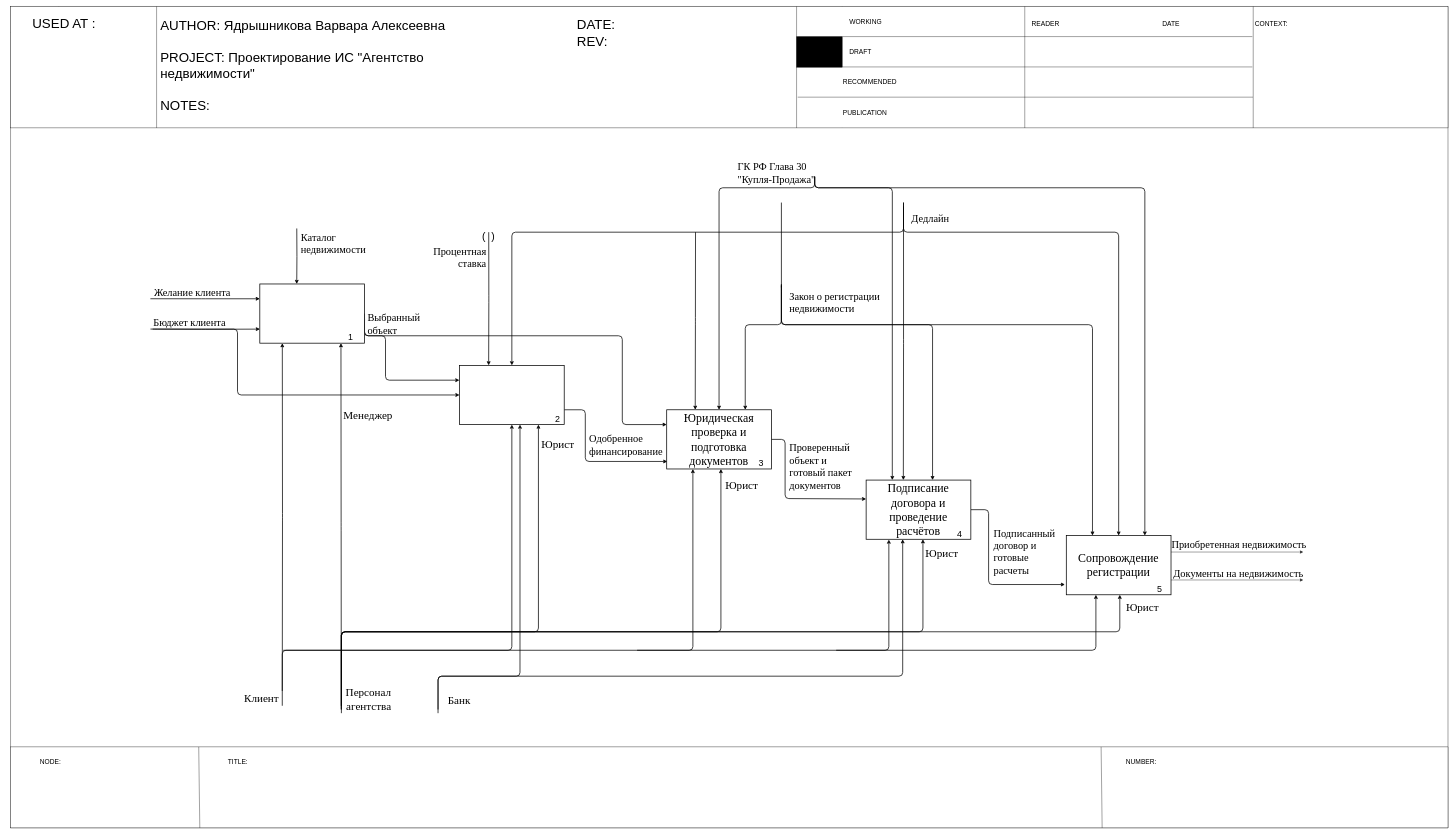
The diagram is 1454 pixels wide and 835 high, and some of its shapes have lost their labels. The shapes that lost their labels are listed below. From the top down, each one's box as (x1, y1, x2, y2) in pixels, then its label:
(259, 283, 365, 343): Подбор недвижимости
(459, 365, 564, 425): Оценка финансовых возможностей
